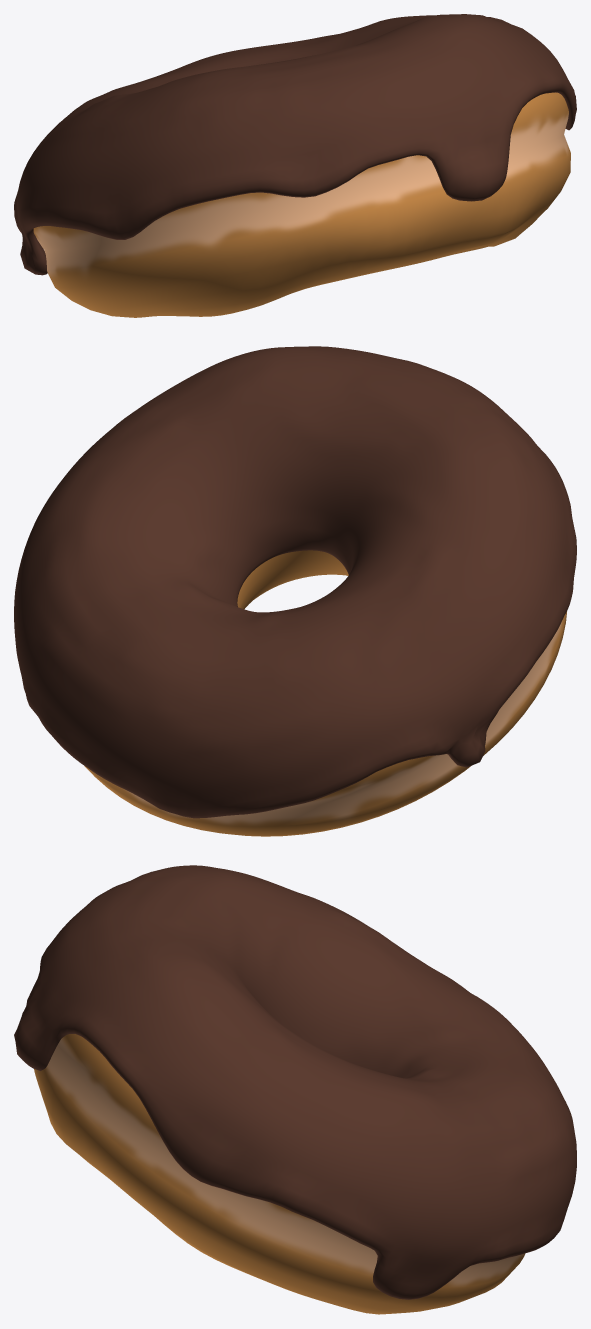
File: dount.gltf
3 views of the same model, one above another, from view 1: azimuth 30°, elevation 25°; view 2: azimuth 150°, elevation 25°; view 3: azimuth 270°, elevation 25° (orthographic).
Parts seen in each view (by area): view 1: Torus.001, Torus; view 2: Torus.001, Torus; view 3: Torus.001, Torus.
Part boxes in pixels (bbox=[...]): Torus.001: bbox=[14, 14, 576, 275]; Torus: bbox=[33, 92, 570, 317]; Torus.001: bbox=[14, 346, 576, 818]; Torus: bbox=[84, 550, 566, 836]; Torus.001: bbox=[14, 865, 576, 1299]; Torus: bbox=[34, 1034, 525, 1314].
Size of the model in its own units: 1.11 by 0.7248 by 1.06.
2 materials, 1 textured.
